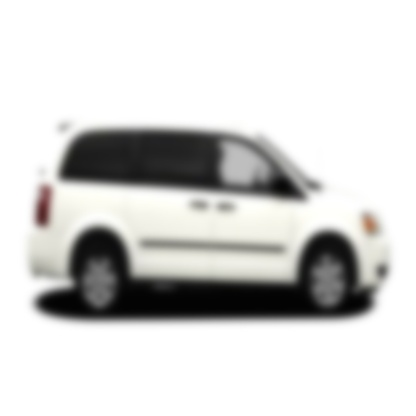Vehicle: (26, 119, 390, 317)
